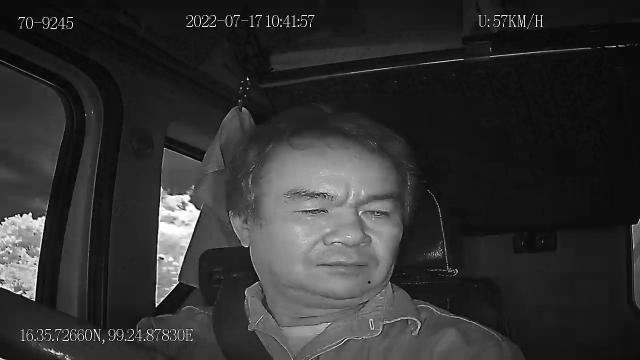SafeDriving: (284, 194, 336, 222), (353, 196, 400, 225)
Seatbelt: (212, 274, 276, 360)
